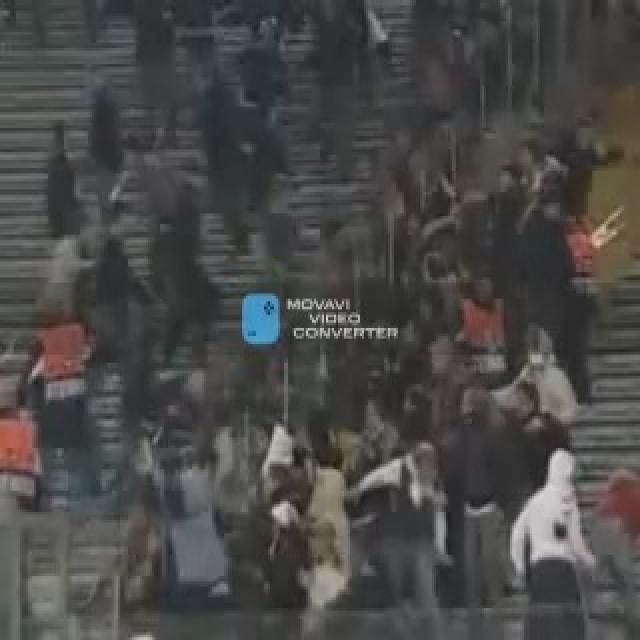non-voilence: (0, 0, 638, 637), (240, 288, 280, 347)
